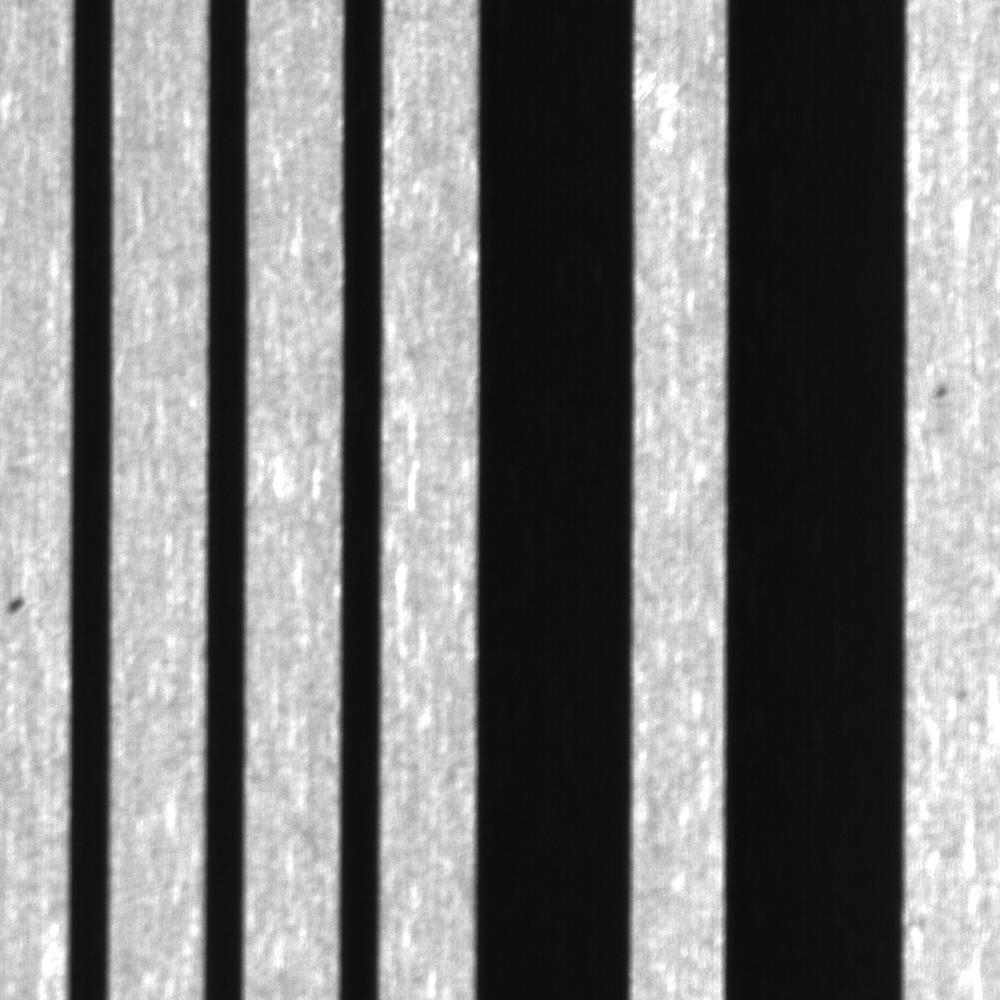Etching: (1, 578, 44, 635), (925, 370, 960, 412)
